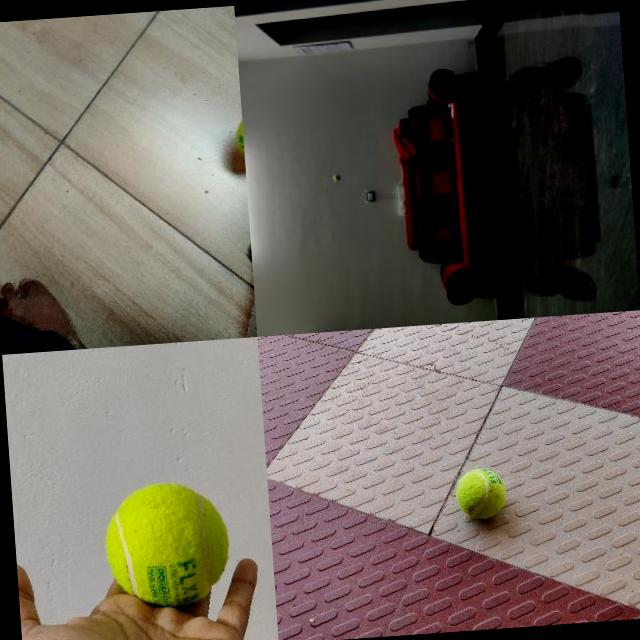tennis-ball: (100, 478, 233, 612), (455, 466, 507, 520), (333, 173, 340, 180)
